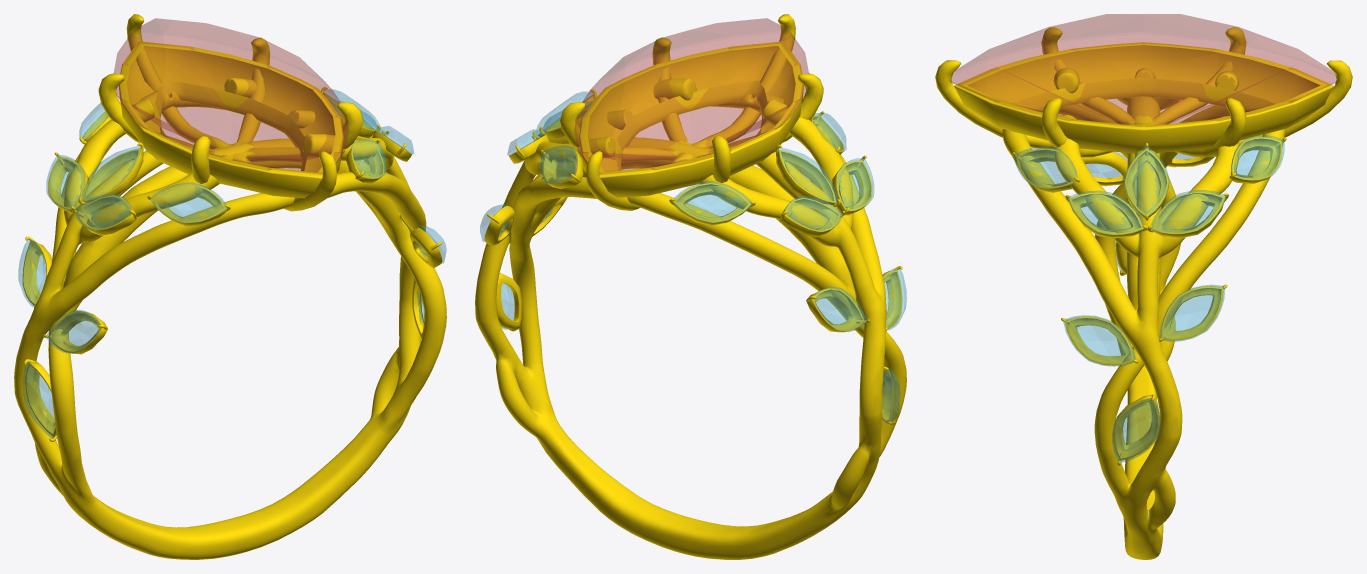
The model's file is ringG.glb.
The picture shows the model from 3 angles, left to right: view 1: azimuth 30°, elevation 25°; view 2: azimuth 150°, elevation 25°; view 3: azimuth 270°, elevation 25°; orthographic projection. The views are drawn at different scales.
Parts seen in each view (by area): view 1: material, bigDiamond, smallDiamond; view 2: material, bigDiamond, smallDiamond; view 3: material, bigDiamond, smallDiamond.
Part boxes in pixels (<box>): material: <box>14,14,446,559</box>; bigDiamond: <box>114,18,348,174</box>; smallDiamond: <box>18,89,446,438</box>; material: <box>475,14,906,559</box>; bigDiamond: <box>574,18,808,174</box>; smallDiamond: <box>480,91,906,423</box>; material: <box>935,27,1352,559</box>; bigDiamond: <box>949,14,1338,126</box>; smallDiamond: <box>1014,135,1284,462</box>.
Size of the model in its own units: 1.25 by 1.42 by 1.07.
